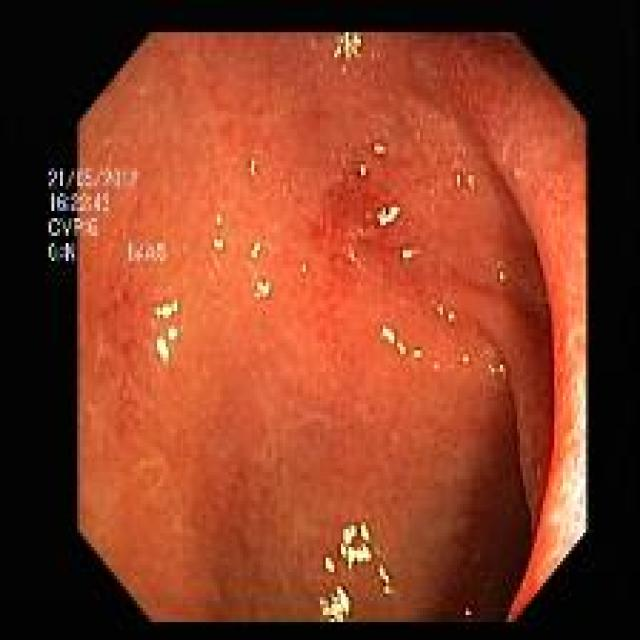ulcerative-colitis: (76, 33, 585, 622)
